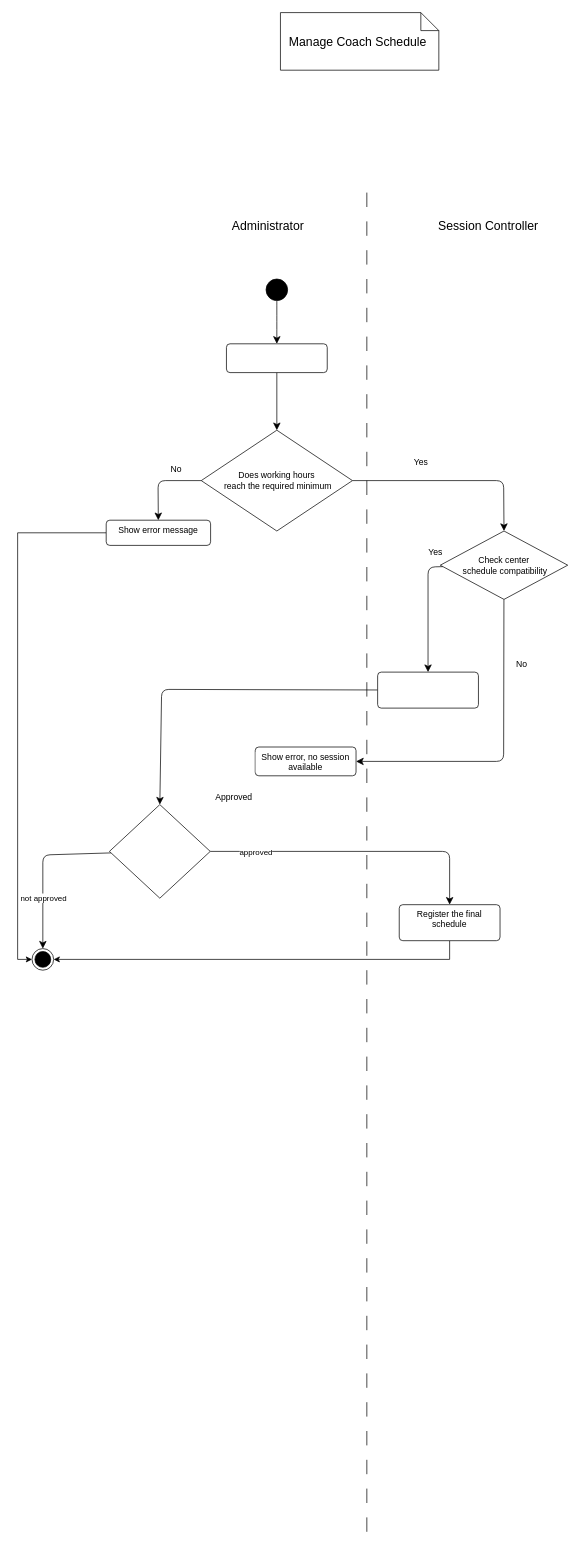
The diagram is 580 pixels wide and 1552 high, and some of its shapes have lost their labels. The centre of each missing label's shape, as x and y in pixels:
"Coach reviews the resulted schedule" goes at point (159, 851).
"Connect coach schedule to sessions schedule" goes at point (427, 689).
"Enter coach available working hours and days" goes at point (276, 358).
